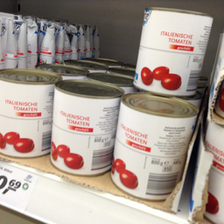tomato_sauce: (110, 91, 199, 201), (131, 5, 215, 96), (49, 78, 125, 177), (1, 68, 60, 158)
